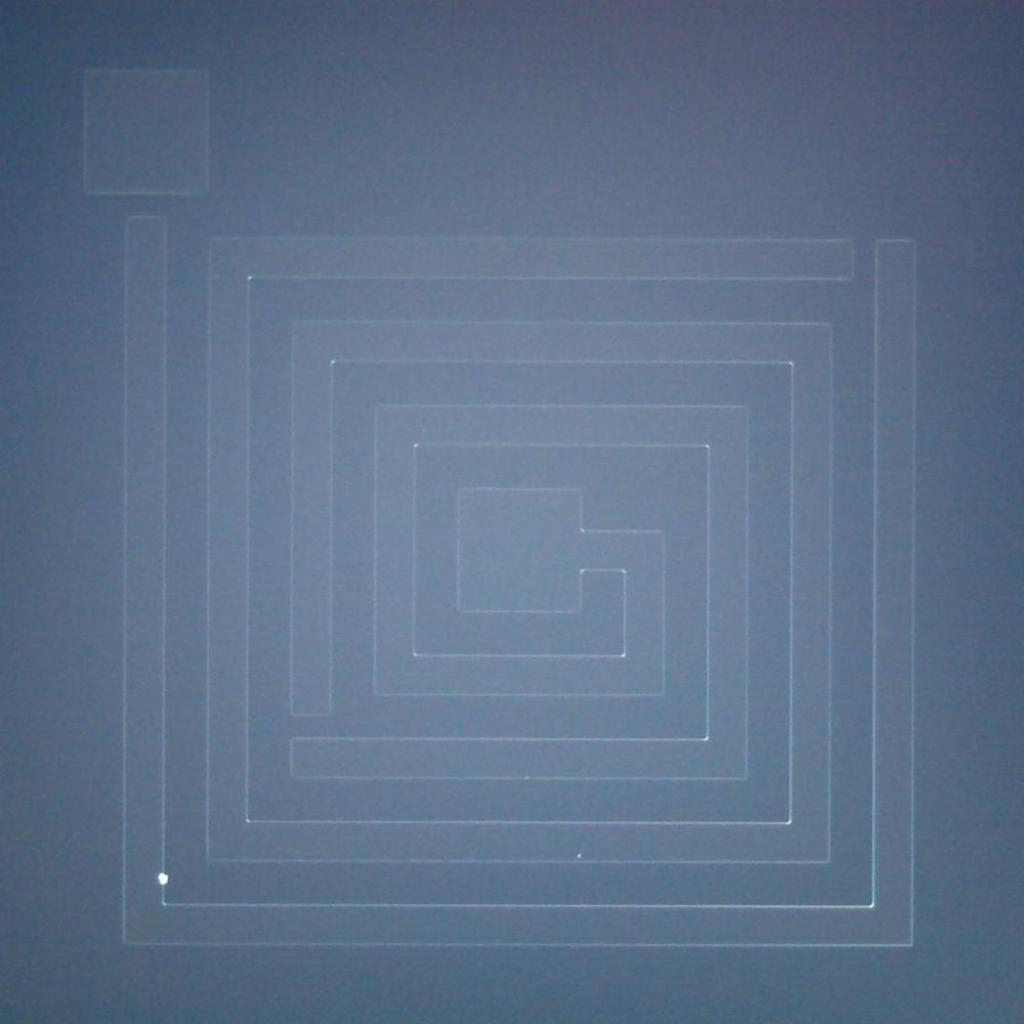short circuit: (824, 225, 900, 290), (113, 177, 176, 240), (282, 694, 344, 756)
spot: (152, 863, 181, 892)
